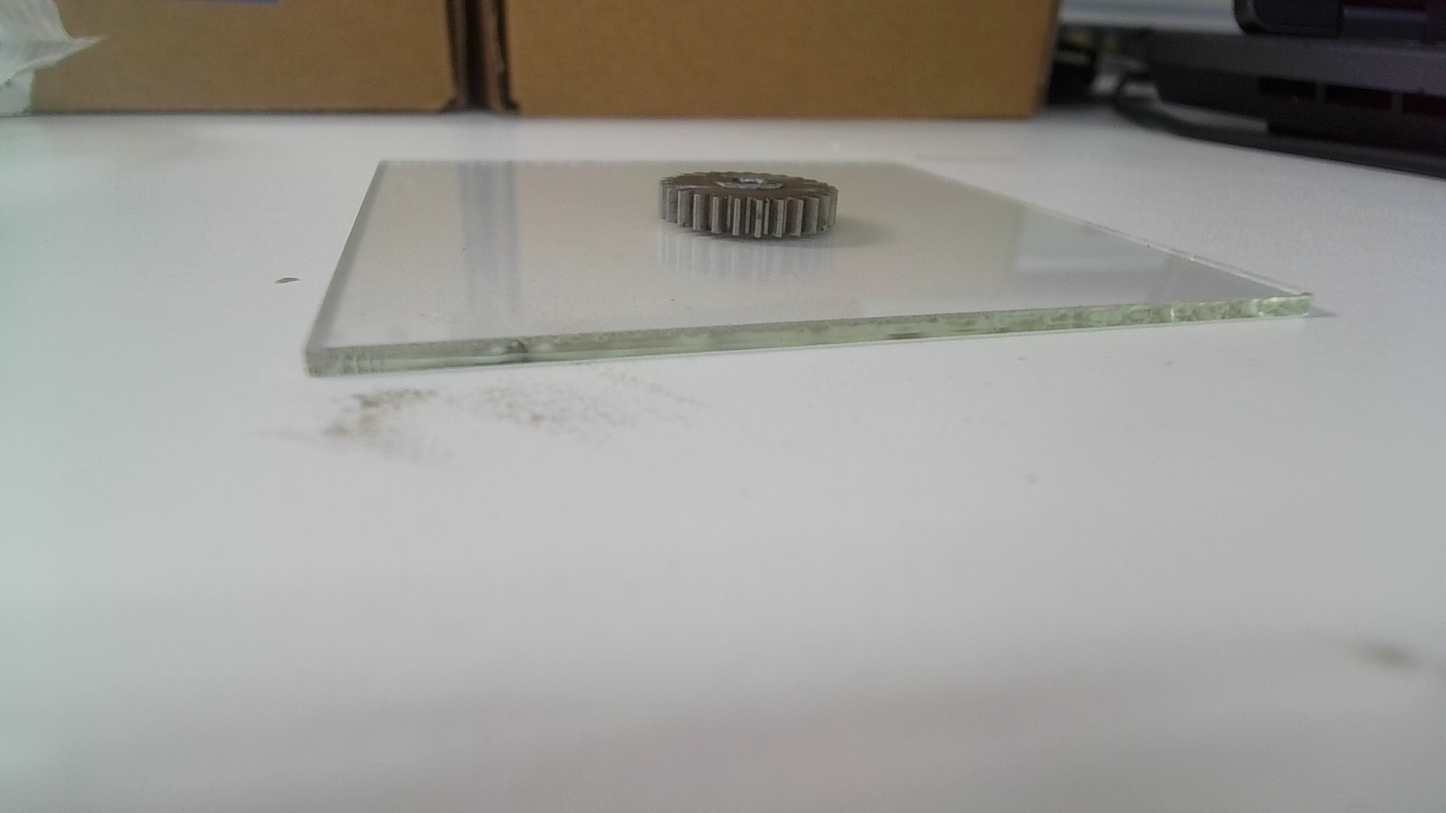gear: (657, 169, 842, 244)
